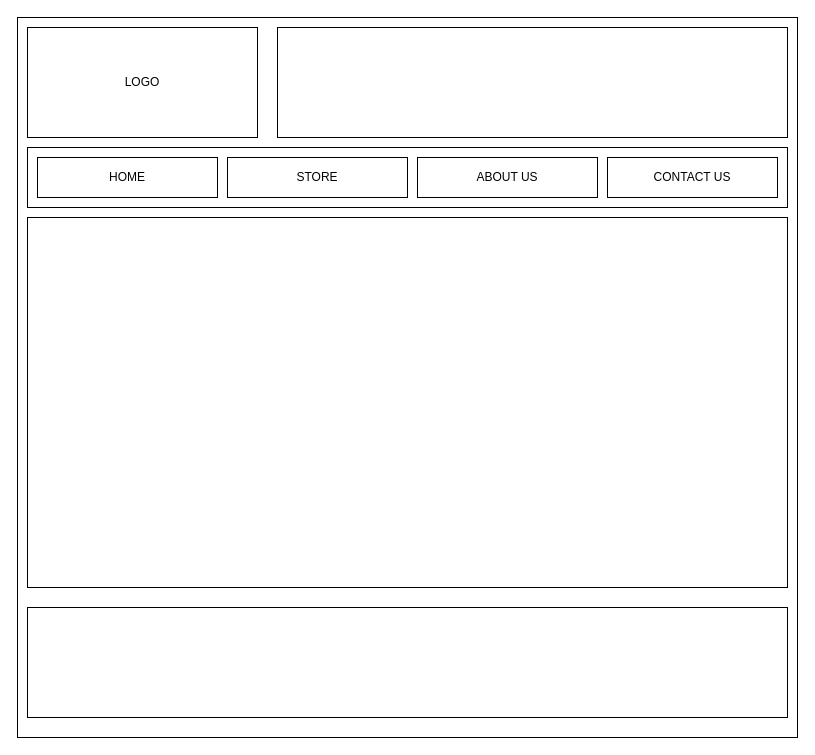
Some shapes in this 815 by 755 pixel diagram are drawn without their labels. Each missing label, with the box of its shape:
FOOTER: (26, 606, 788, 718)
GAME BACKGROUND IMAGE: (26, 216, 788, 588)
SEARCH BAR: (276, 26, 788, 138)
